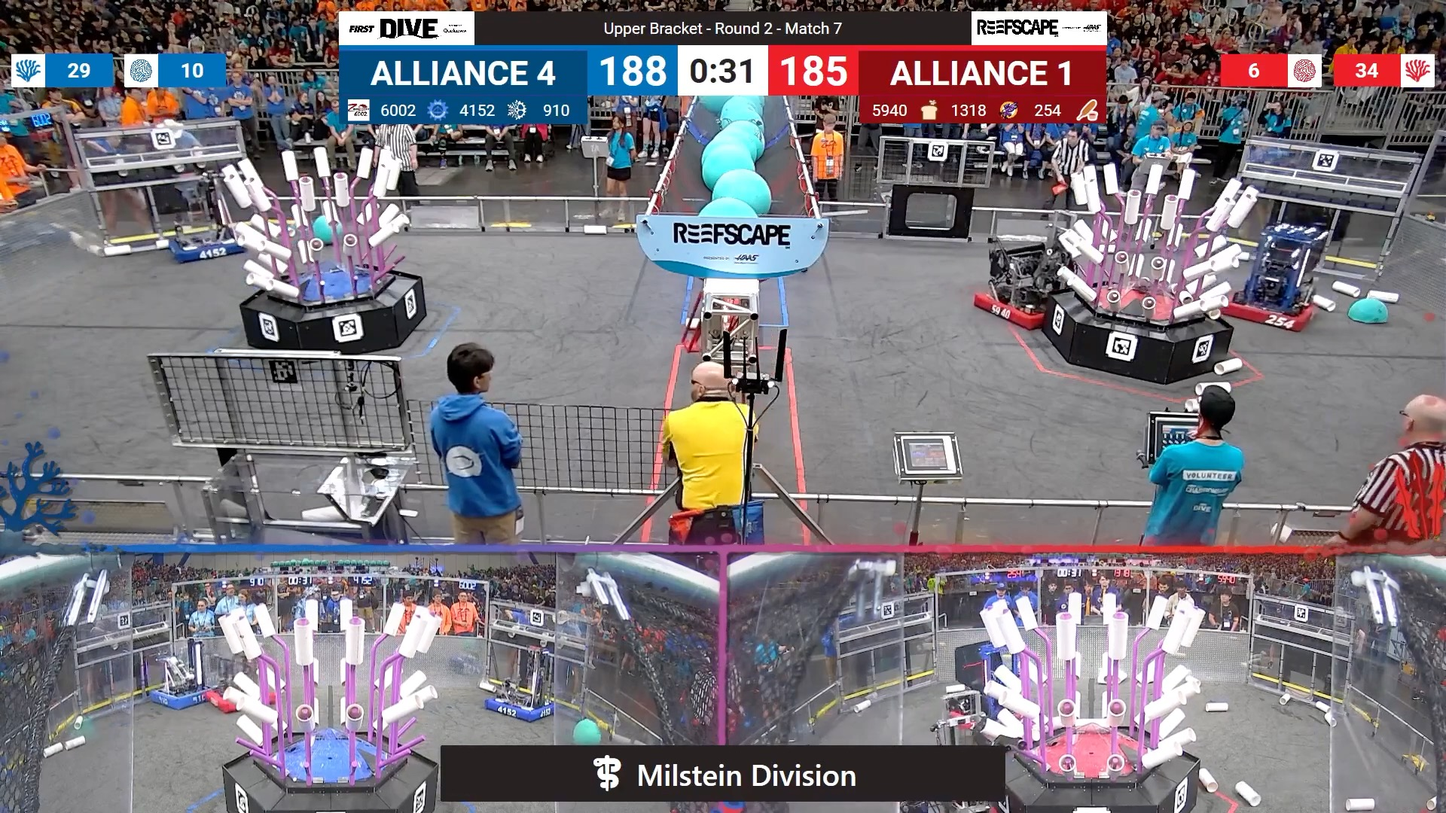bumpers: (970, 281, 1074, 333), (1218, 288, 1328, 337), (162, 230, 256, 268), (481, 693, 564, 727), (145, 682, 220, 711), (206, 690, 250, 715)
